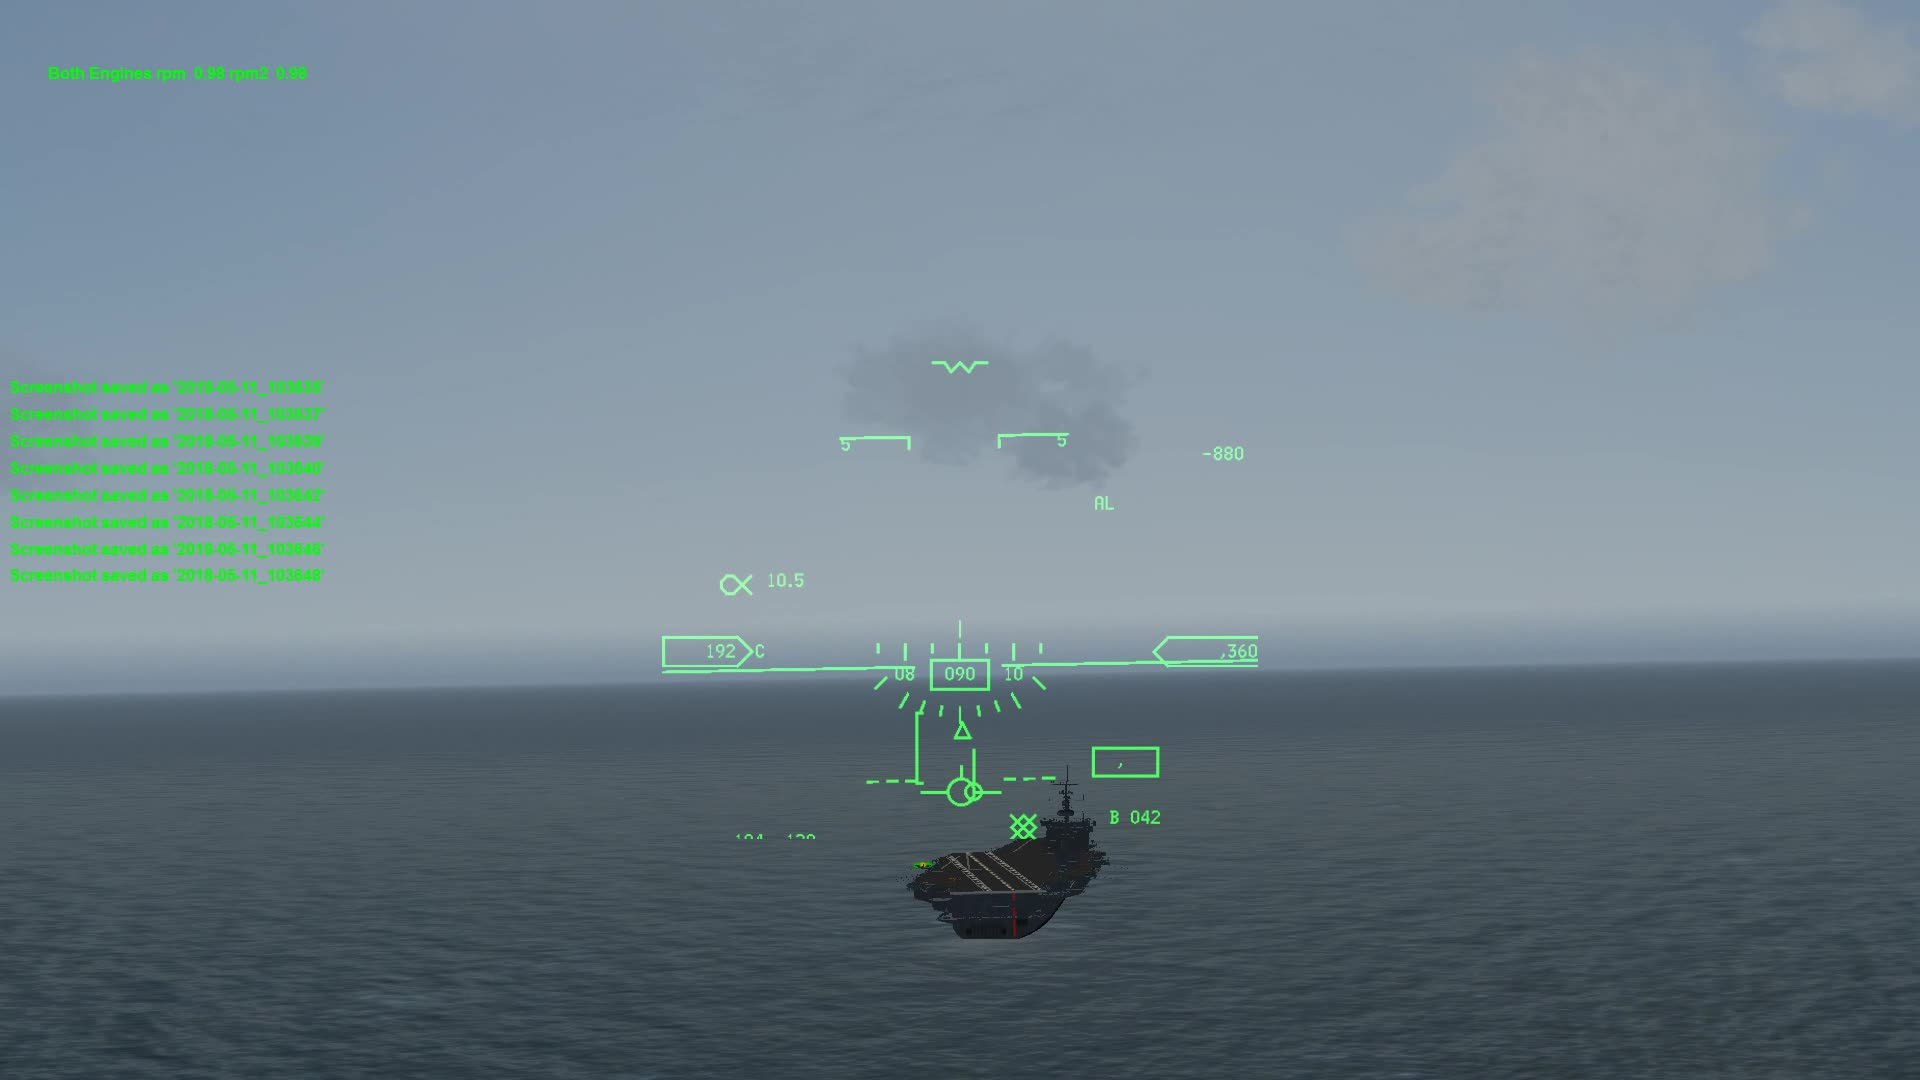speed vector: (927, 760, 1015, 811)
